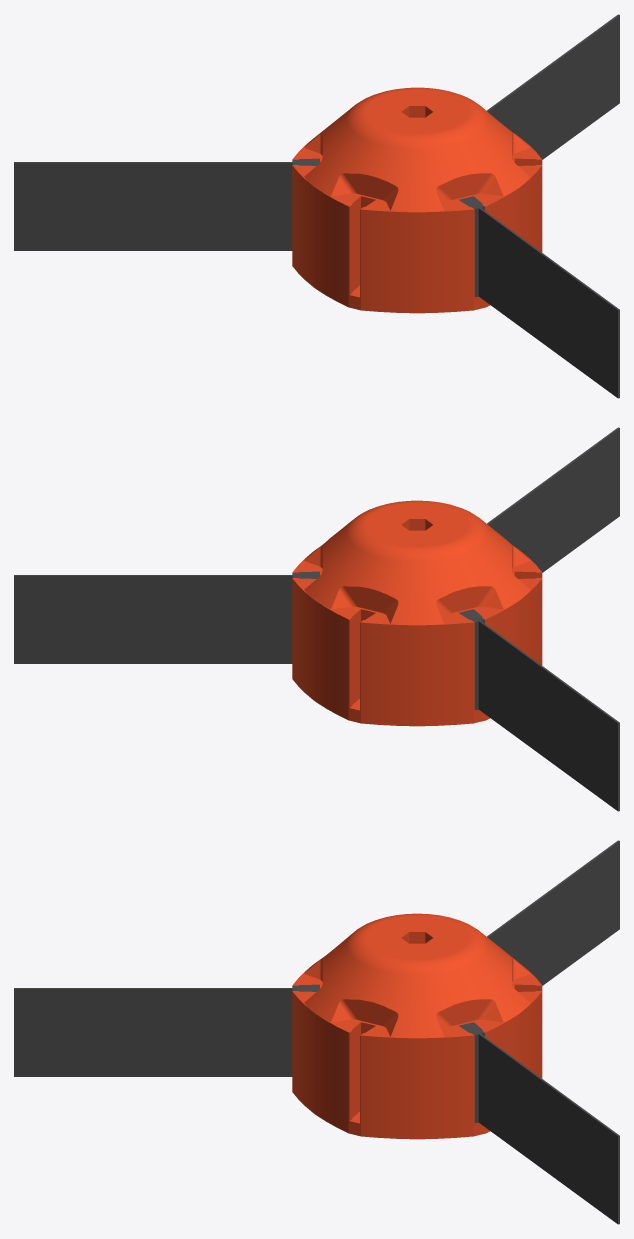
3 renders of one model, top to bottom at view 1: azimuth 30°, elevation 25°; view 2: azimuth 150°, elevation 25°; view 3: azimuth 270°, elevation 25°, orthographic.
Parts seen in each view (by area): view 1: Part 22, Brush.001, Brush, Brush.002; view 2: Part 22, Brush.002, Brush.001, Brush; view 3: Part 22, Brush, Brush.002, Brush.001.
Part boxes in pixels (x1=…): Part 22: x1=292, y1=87, x2=542, y2=313; Brush.001: x1=14, y1=158, x2=319, y2=250; Brush: x1=459, y1=196, x2=619, y2=398; Brush.002: x1=486, y1=14, x2=619, y2=159; Part 22: x1=292, y1=500, x2=542, y2=726; Brush.002: x1=14, y1=571, x2=319, y2=663; Brush.001: x1=459, y1=609, x2=619, y2=811; Brush: x1=487, y1=427, x2=619, y2=572; Part 22: x1=292, y1=913, x2=542, y2=1139; Brush: x1=14, y1=984, x2=319, y2=1076; Brush.002: x1=459, y1=1022, x2=619, y2=1224; Brush.001: x1=487, y1=840, x2=619, y2=985.
Size of the model in its own units: 0.3191 by 0.0762 by 0.2764.
